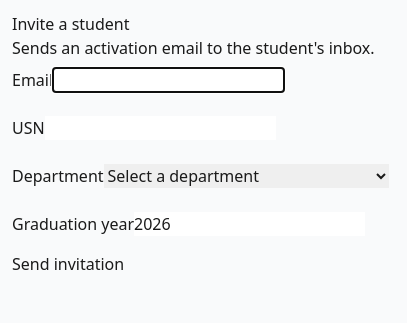
Scenario: InviteStudent › shows the backend's error on conflict
Type "student@example.com" into the field labelled "Email" at (169, 80), box [53,68,284,92]
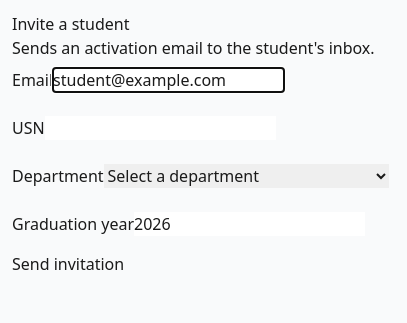
Type "1SM21CS001" into the field labelled "USN" at (160, 128), box [45,116,276,140]
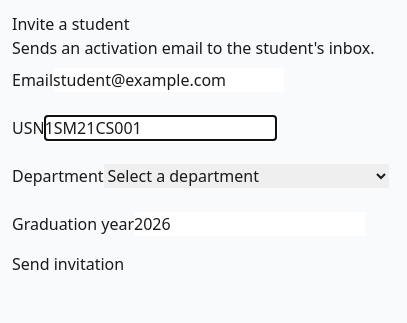
Select "Computer Science and Engineering" in the dropdown labelled "Department" at (246, 176), box [104,164,389,188]
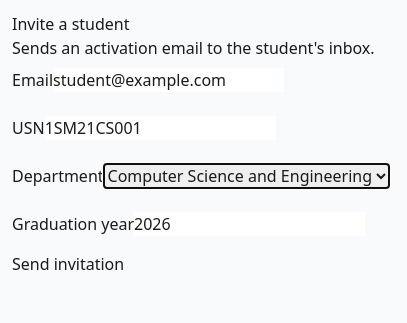
Click the button "Send invitation" at (68, 264), box [12,252,124,276]
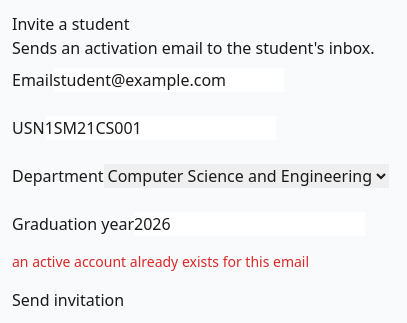
Result: the text "an active account already exists for this email" is shown at [12,252,309,271]
